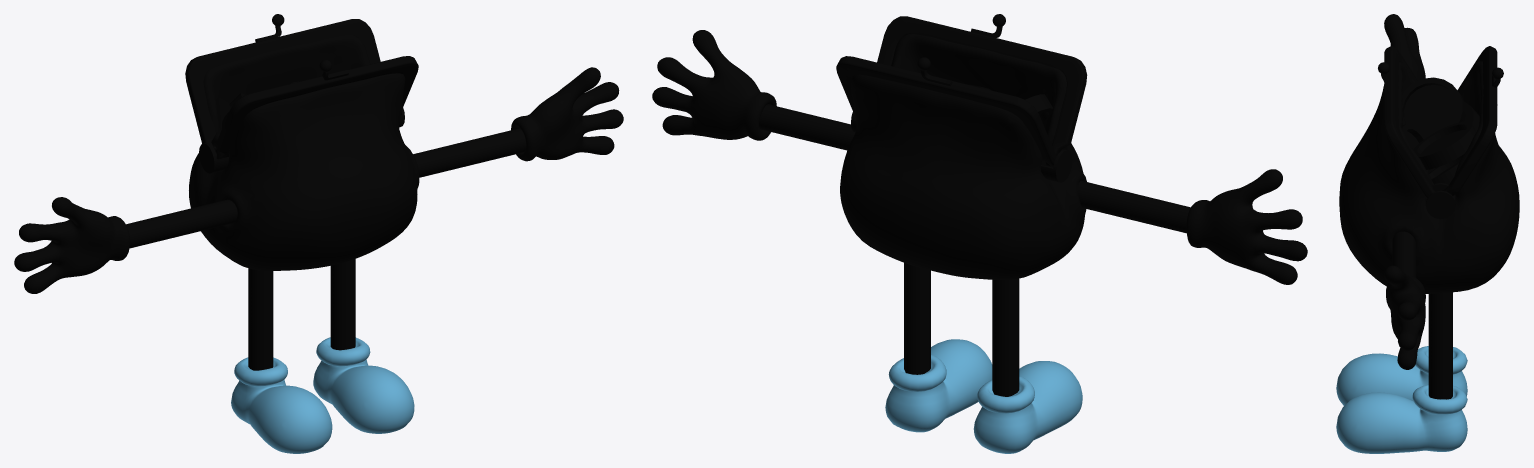
Rendered from Wallet_Merged.fbx.
3 renders of one model, left to right at view 1: azimuth 30°, elevation 25°; view 2: azimuth 150°, elevation 25°; view 3: azimuth 270°, elevation 25°, orthographic. The views are drawn at different scales.
Visible parts, largest first — view 1: Wallet_Low; view 2: Wallet_Low; view 3: Wallet_Low.
Boxes of the visible parts, box(x1,y1,x2,y2) form: Wallet_Low: box(14, 14, 623, 453); Wallet_Low: box(652, 14, 1307, 453); Wallet_Low: box(1336, 14, 1519, 453).
Bounding box in the file's own units: 45.05 × 26.35 × 12.14.
